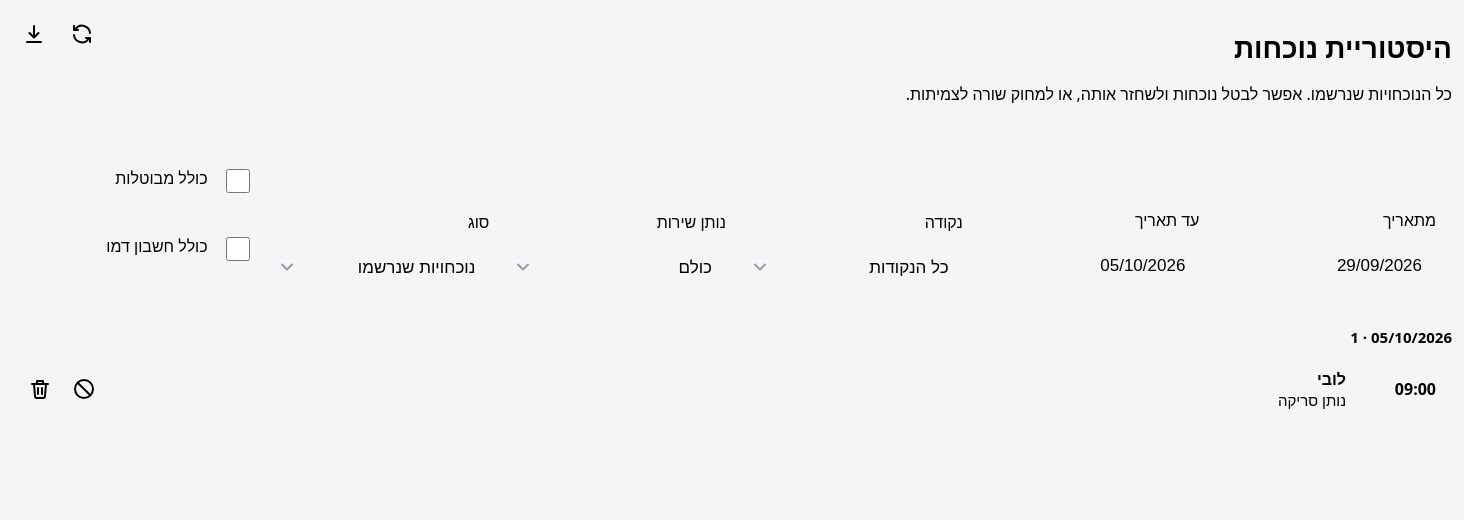
Test case: when there is nothing to show › says that no visit was left uncounted in the period, with a heading of the second level
This screenshot has width=1464, height=520.
Check: the text "נותן סריקה" is shown, box [1278,390,1346,410]
Select "לא נקלטו" in the dropdown labelled "סוג": (377, 267) [265,241,489,293]
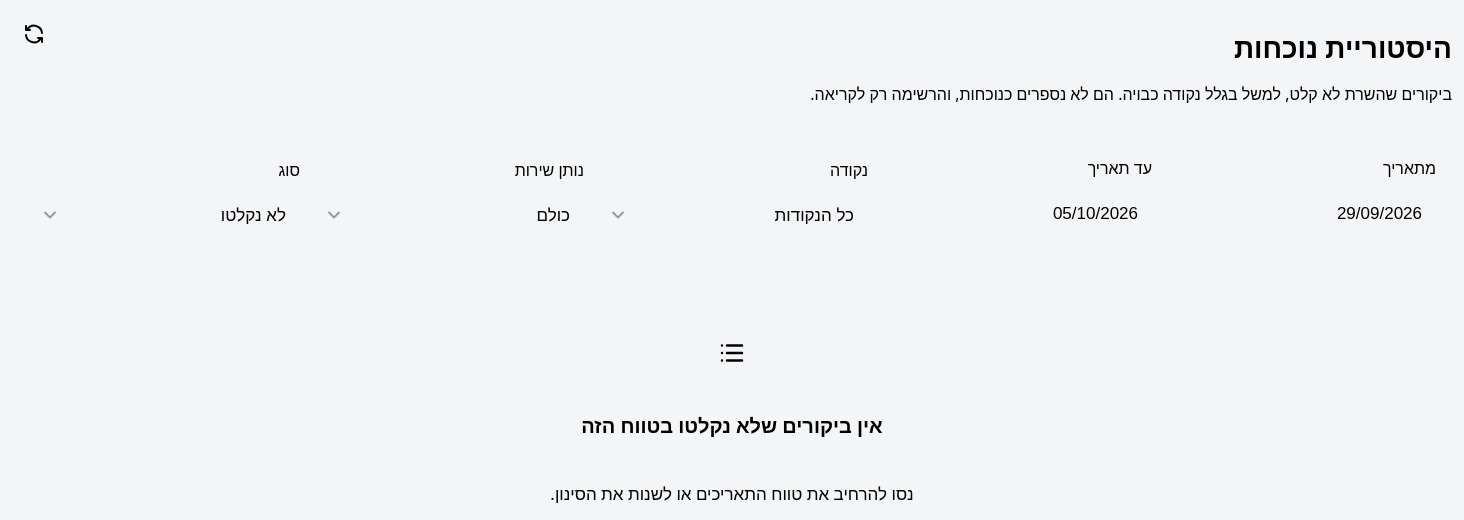
Check: the heading "אין ביקורים שלא נקלטו בטווח הזה" is shown, box [581,412,883,439]
